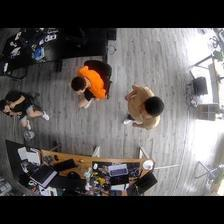normal: (1, 90, 50, 139), (122, 80, 166, 134), (68, 61, 110, 113)
